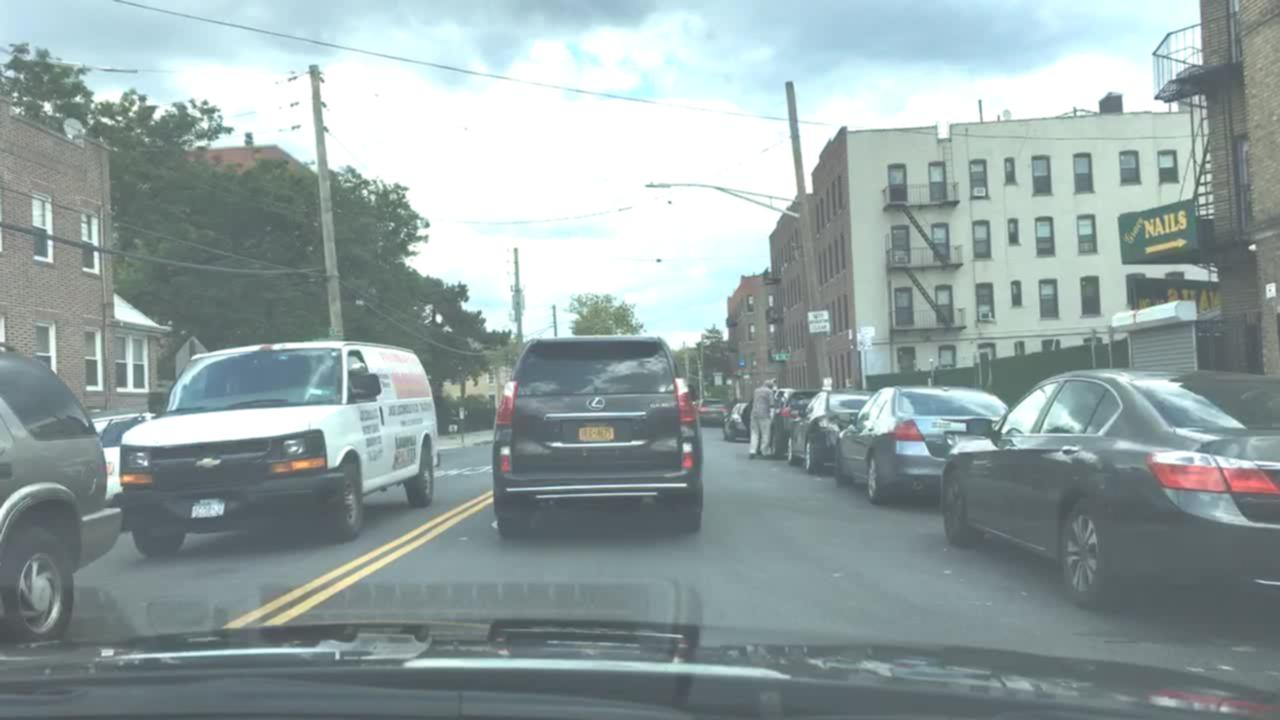chevrolet: (197, 452, 227, 473)
lexus: (584, 390, 609, 414)
